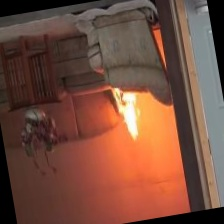fire: (111, 89, 154, 147)
